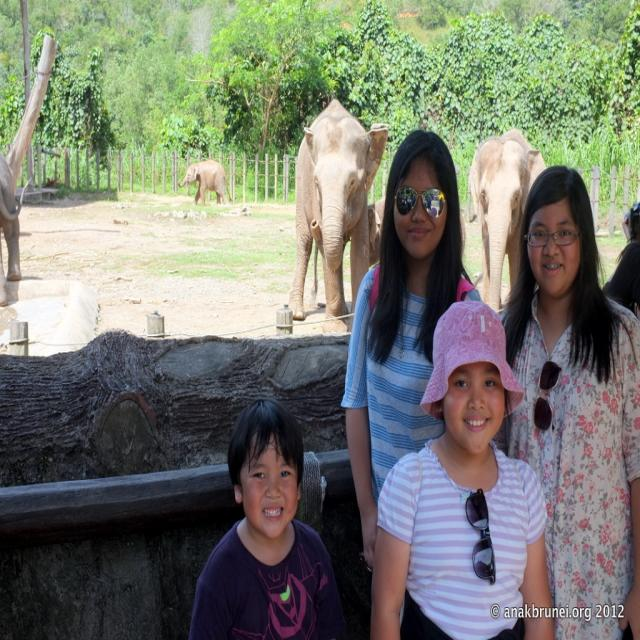elephant: (285, 101, 391, 316), (469, 120, 549, 324), (176, 152, 230, 213)
